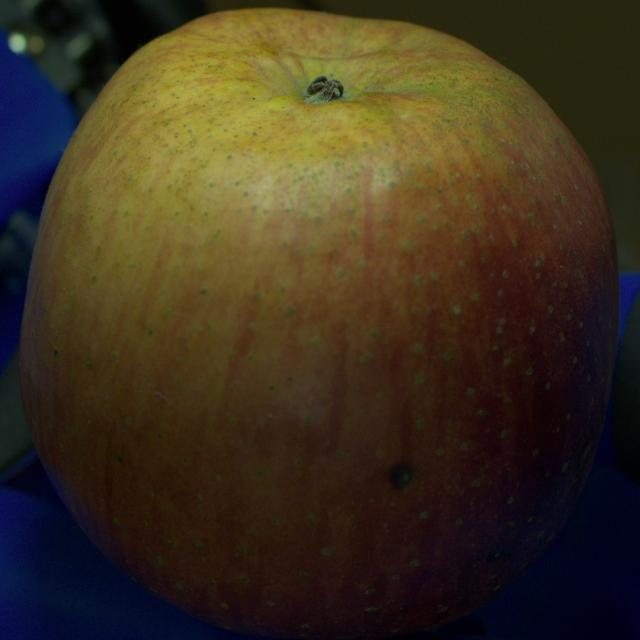apple: (19, 9, 618, 639)
pest: (389, 461, 415, 490), (488, 546, 508, 562)
